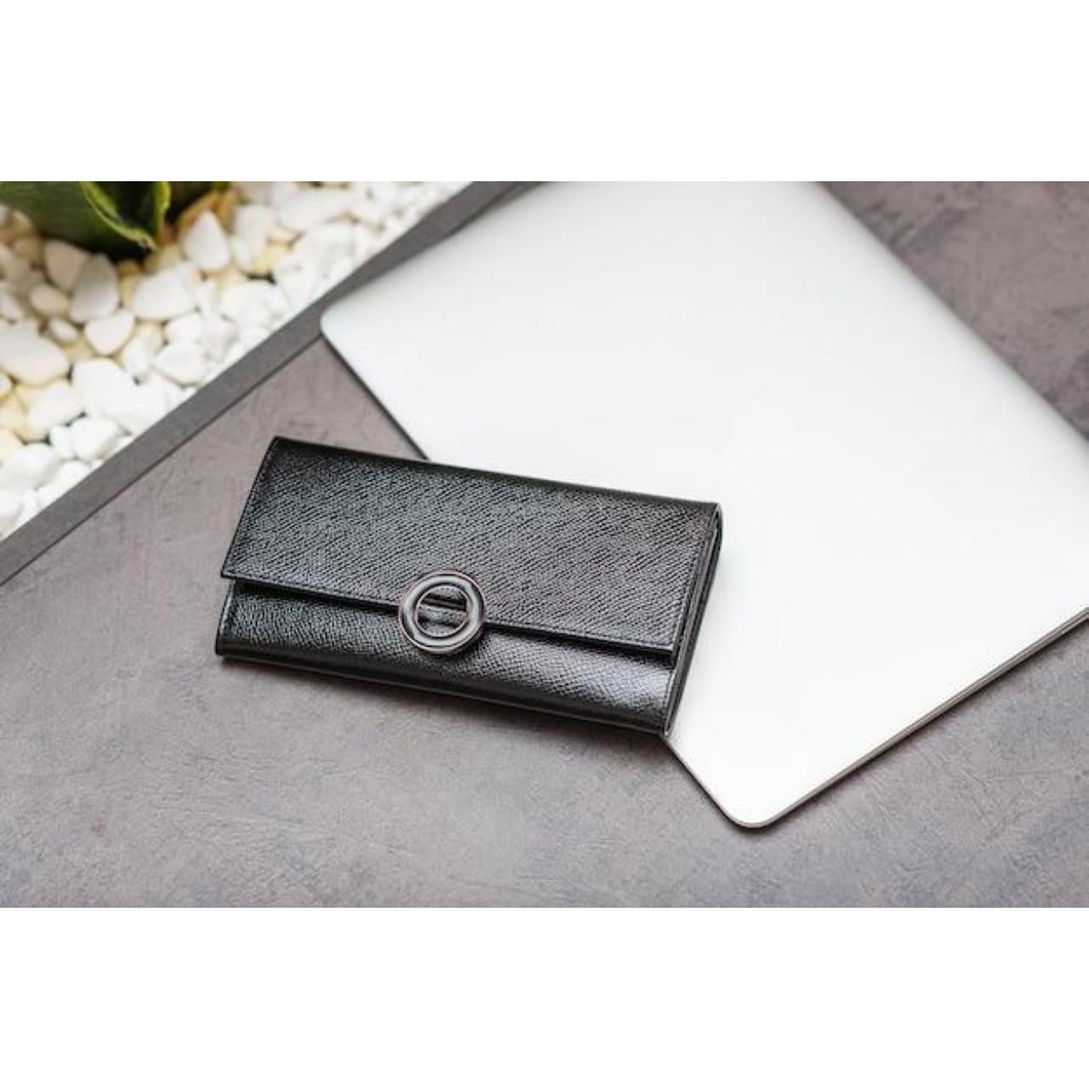wallet: (192, 426, 766, 739)
